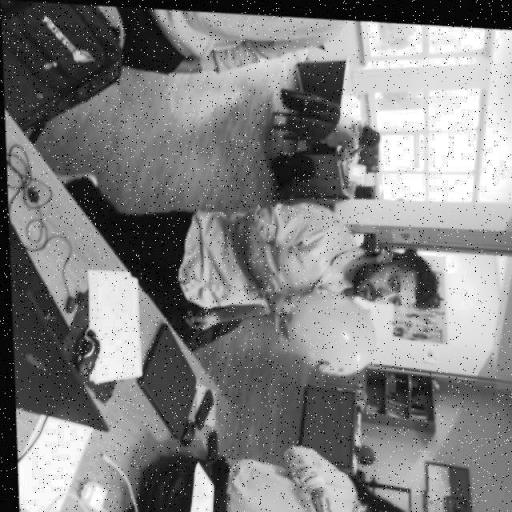balloon: (276, 285, 375, 372)
